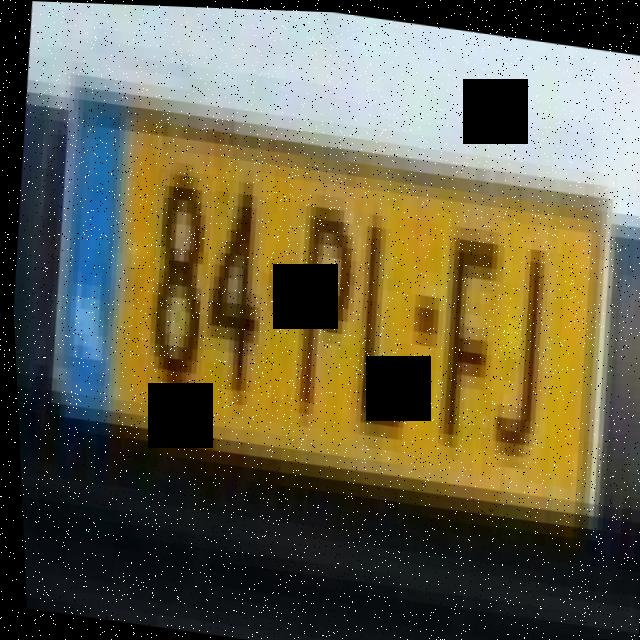4: (192, 165, 277, 395)
8: (135, 166, 220, 393)
F: (425, 210, 510, 448)
J: (481, 227, 559, 463)
L: (337, 197, 427, 435)
P: (280, 185, 365, 412)
